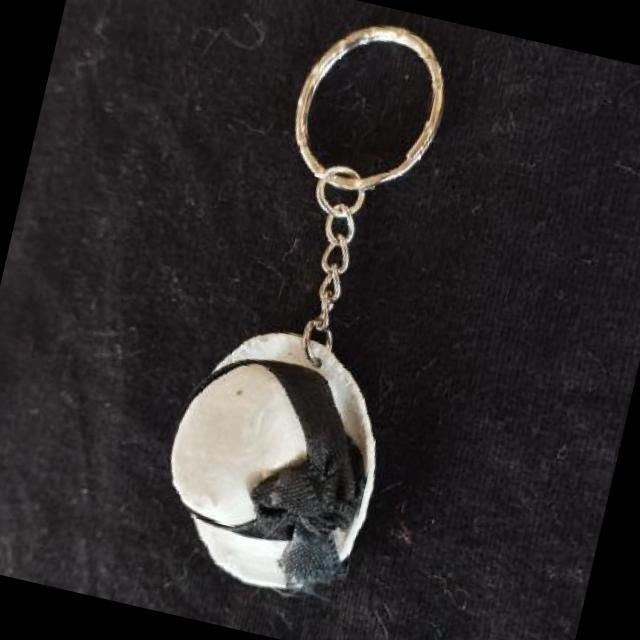Llavero: (143, 309, 404, 609)
